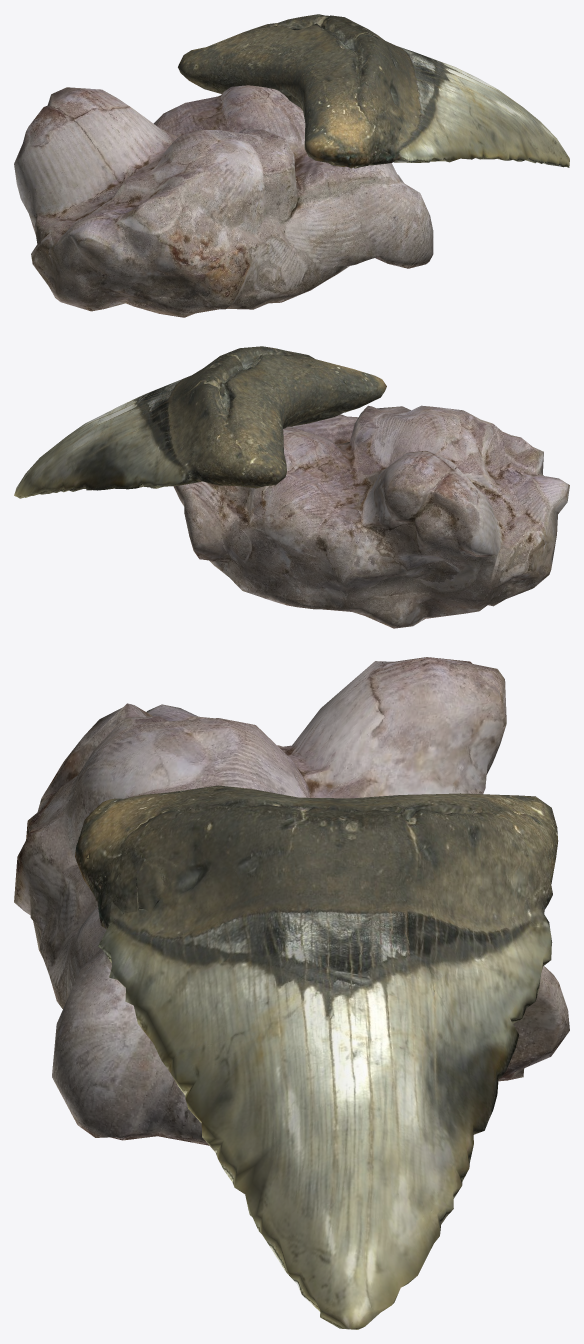
The picture shows the model from 3 angles, top to bottom: view 1: azimuth 30°, elevation 25°; view 2: azimuth 150°, elevation 25°; view 3: azimuth 270°, elevation 25°; orthographic projection. The views are drawn at different scales.
Visible parts, largest first — view 1: combinado_fosseis; view 2: combinado_fosseis; view 3: combinado_fosseis.
Part boxes in pixels (<box>): combinado_fosseis: <box>14,14,569,317</box>; combinado_fosseis: <box>14,346,569,628</box>; combinado_fosseis: <box>14,657,569,1329</box>.
Bounding box in the file's own units: 1.45 × 0.5558 × 0.7406.
Materials: 2 (2 with a texture image).
